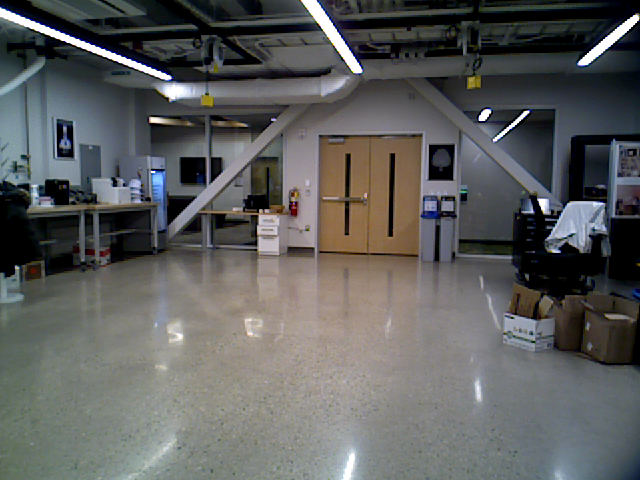painting1: (425, 143, 456, 180)
painting2: (53, 115, 77, 160)
